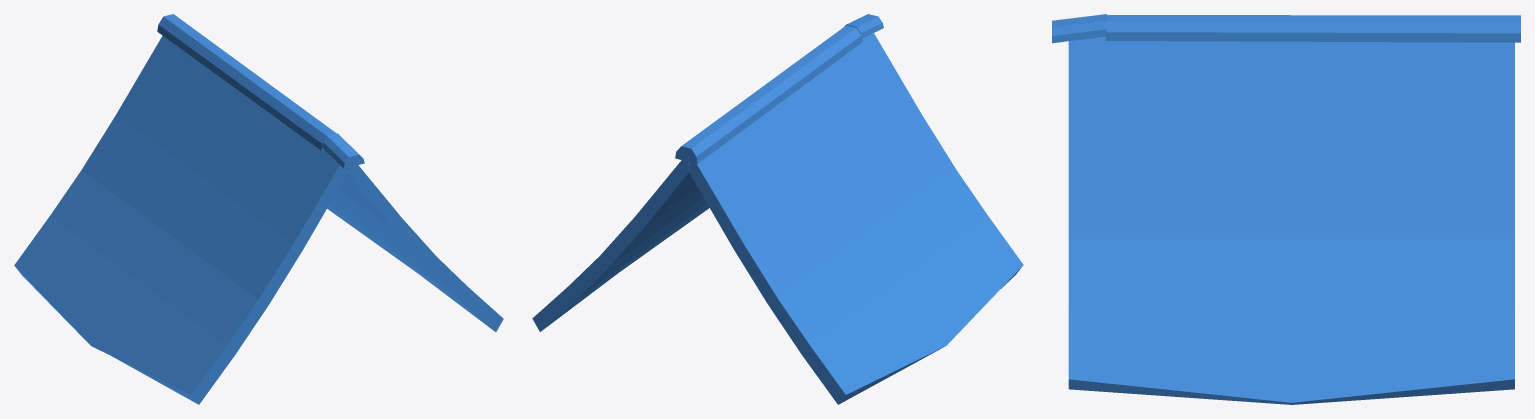
Rendered from Collision_Roof_FlatTiles_8x8.fbx.
3 renders of one model, left to right at view 1: azimuth 30°, elevation 25°; view 2: azimuth 150°, elevation 25°; view 3: azimuth 270°, elevation 25°, orthographic. The views are drawn at different scales.
Parts seen in each view (by area): view 1: UCX_Roof_FlatTiles_8x8_01; view 2: UCX_Roof_FlatTiles_8x8_01; view 3: UCX_Roof_FlatTiles_8x8_01.
Part boxes in pixels (x1,y1,x2,y2): UCX_Roof_FlatTiles_8x8_01: (14, 14, 503, 404); UCX_Roof_FlatTiles_8x8_01: (532, 14, 1023, 404); UCX_Roof_FlatTiles_8x8_01: (1052, 14, 1520, 404).
Bounding box in the file's own units: 1070 × 702 × 1026.
